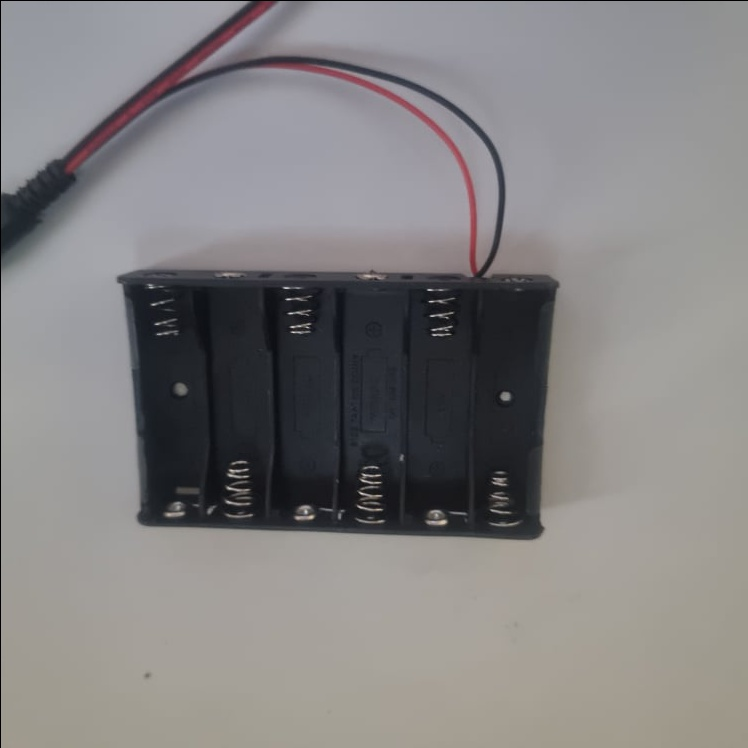BATTERY BOX: (115, 264, 561, 541)
